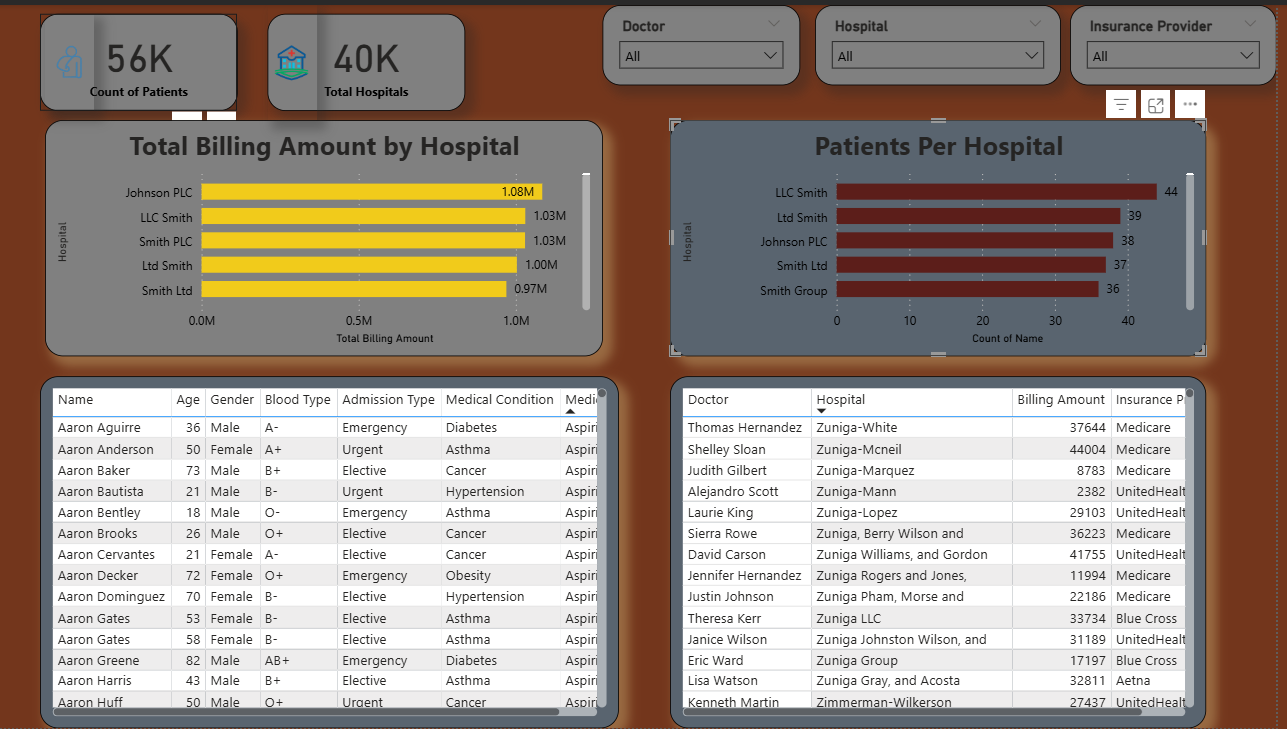

Layout of this report page (visuals, bound fields, positions):
{"tool":"powerbi","page":{"name":"Page 2","canvas":[1280,720],"ordinal":1},"visuals":[{"type":"card","fields":{"Values":["healthcare_dataset.Count of Patients"]},"box":[22.4,8.7,196.5,97],"z":0},{"type":"card","fields":{"Values":["healthcare_dataset.Total Hospitals"]},"box":[227.6,8.7,196.5,97],"z":1000},{"type":"slicer","fields":{"Values":["healthcare_dataset.Doctor"]},"box":[609.5,0,196.5,79.6],"z":2000},{"type":"clusteredBarChart","fields":{"Category":["healthcare_dataset.Hospital"],"Y":["healthcare_dataset.Total Billing Amount"]},"box":[49.8,114.4,576,235.1],"z":3000},{"type":"clusteredBarChart","title":"Patients Per Hospital","fields":{"Category":["healthcare_dataset.Hospital"],"Y":["CountNonNull(healthcare_dataset.Name)"]},"box":[671.7,114.4,533.7,235.1],"z":4000},{"type":"slicer","fields":{"Values":["healthcare_dataset.Hospital"]},"box":[821,0,245.1,79.6],"z":5000},{"type":"slicer","fields":{"Values":["healthcare_dataset.Insurance Provider"]},"box":[1074.8,0,205.3,79.6],"z":6000},{"type":"tableEx","fields":{"Values":["healthcare_dataset.Name","healthcare_dataset.Age","healthcare_dataset.Gender","healthcare_dataset.Blood Type","healthcare_dataset.Admission Type","healthcare_dataset.Medical Condition","healthcare_dataset.Medication"]},"box":[33.6,369.5,622,350.8],"z":7000},{"type":"tableEx","fields":{"Values":["healthcare_dataset.Doctor","healthcare_dataset.Hospital","healthcare_dataset.Billing Amount","healthcare_dataset.Insurance Provider"]},"box":[671.7,369.5,583.4,350.8],"z":8000},{"type":"image","box":[22.4,8.7,48.5,97],"z":9000},{"type":"image","box":[227.6,0,48.5,114.4],"z":10000}]}

Visuals, with their boxes in screenshot pixels (x1, y1, x2, y2), scaled from the page's 1280x720 canvas onto the 1287x729 screenshot:
card - healthcare_dataset.Count of Patients: region(23, 9, 220, 107)
card - healthcare_dataset.Total Hospitals: region(229, 9, 426, 107)
slicer - healthcare_dataset.Doctor: region(613, 0, 810, 81)
clusteredBarChart - healthcare_dataset.Hospital x healthcare_dataset.Total Billing Amount: region(50, 116, 629, 354)
"Patients Per Hospital" clusteredBarChart: region(675, 116, 1212, 354)
slicer - healthcare_dataset.Hospital: region(825, 0, 1072, 81)
slicer - healthcare_dataset.Insurance Provider: region(1081, 0, 1286, 81)
tableEx - healthcare_dataset.Name x healthcare_dataset.Age: region(34, 374, 659, 728)
tableEx - healthcare_dataset.Doctor x healthcare_dataset.Hospital: region(675, 374, 1262, 728)
image: region(23, 9, 71, 107)
image: region(229, 0, 278, 116)
